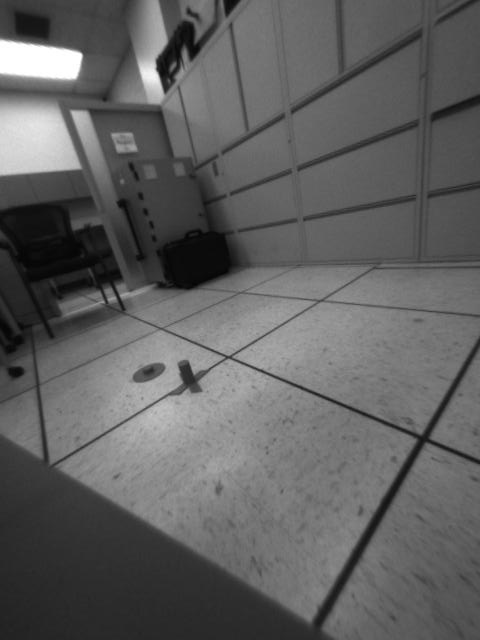X: (164, 358, 210, 397)
